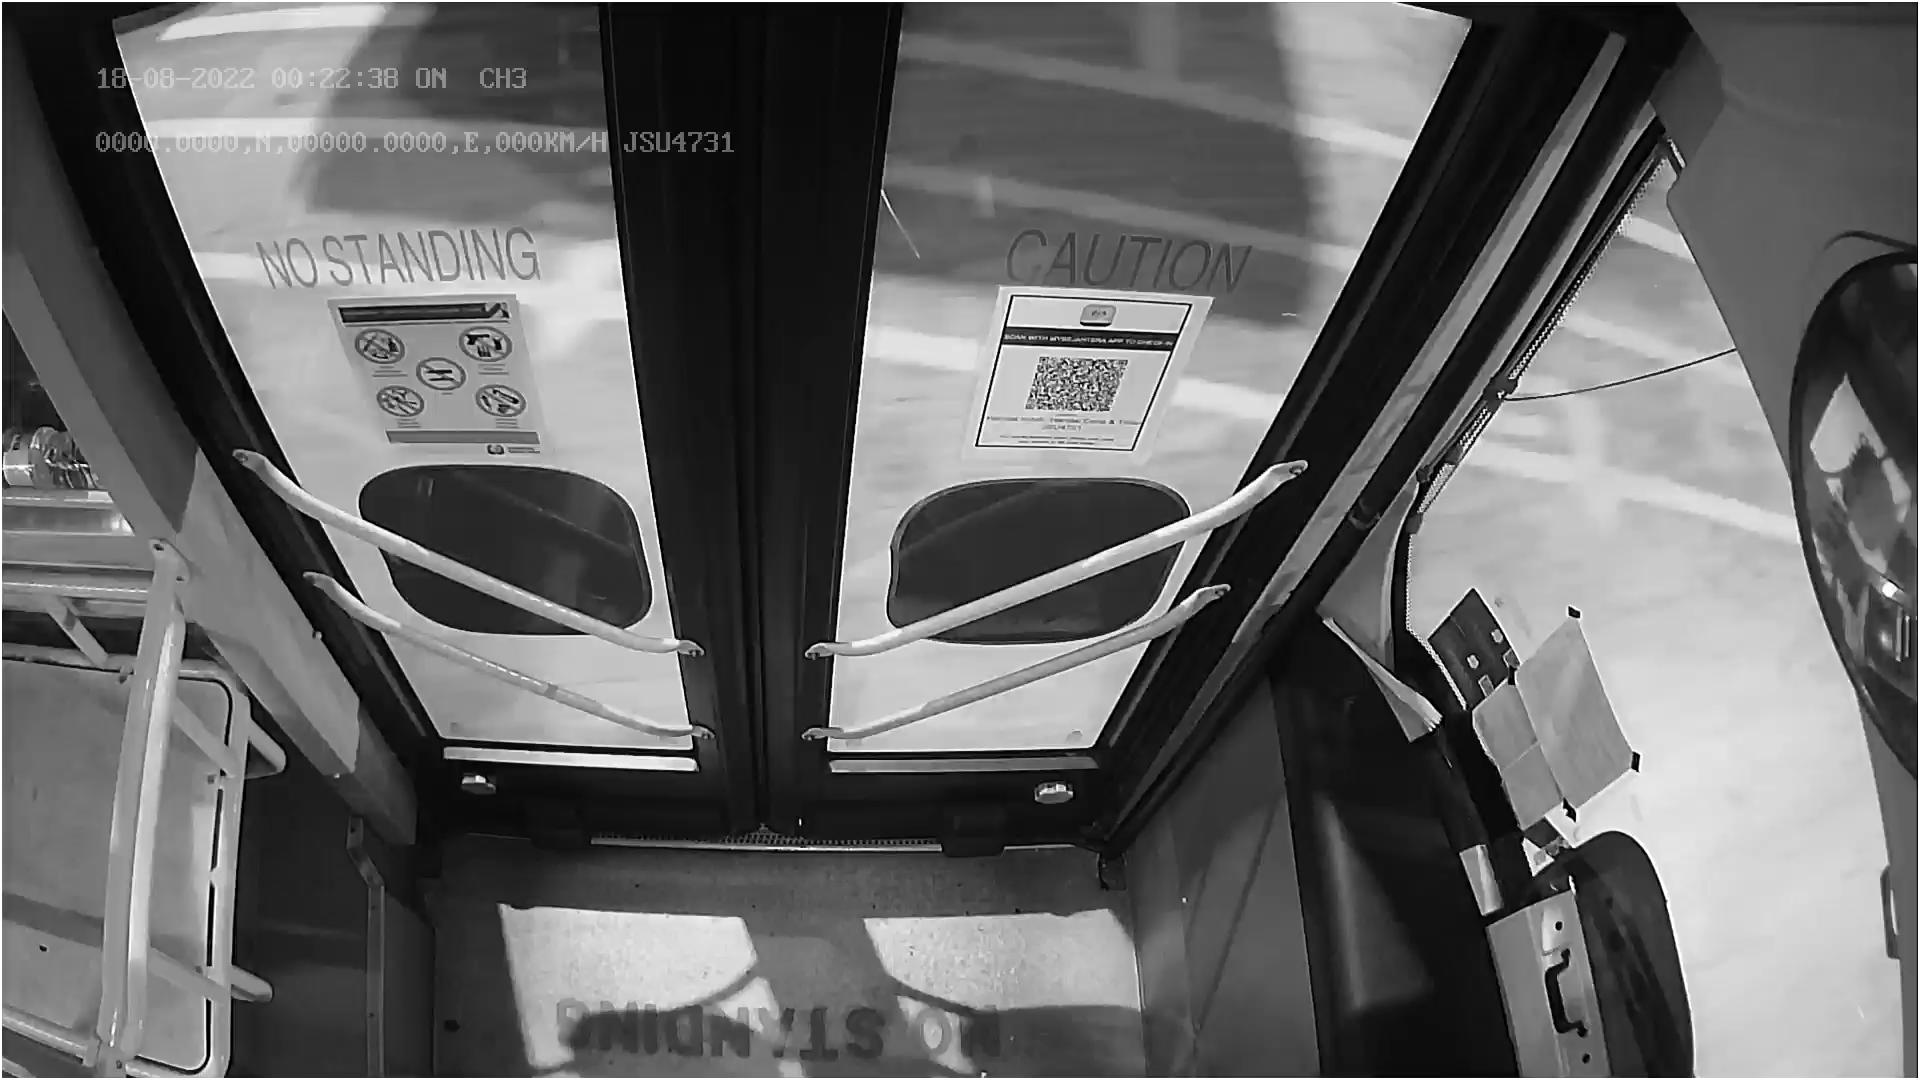close: (131, 0, 1453, 160)
